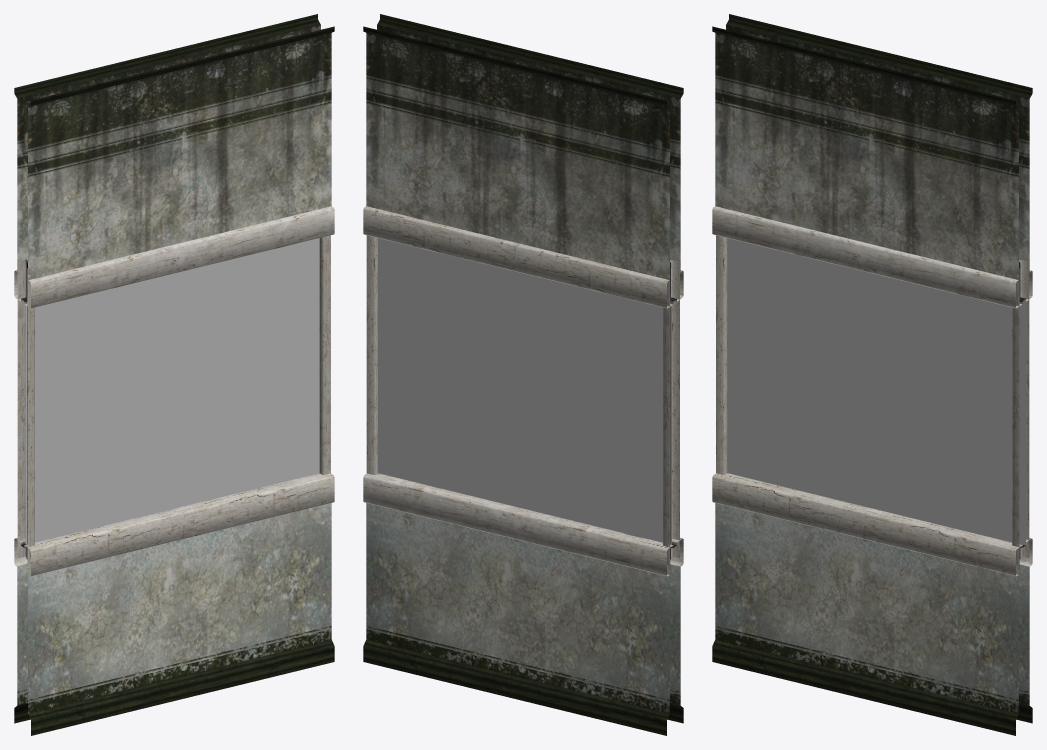
The model's file is waitingroom_reception_damaged_flat_short.dae.
3 views of the same model, side by side, from view 1: azimuth 30°, elevation 25°; view 2: azimuth 150°, elevation 25°; view 3: azimuth 330°, elevation 25° (orthographic).
Parts seen in each view (by area): view 1: polySurface172, polySurface182; view 2: polySurface172, polySurface182; view 3: polySurface172, polySurface182.
Boxes of the visible parts, <box> form: polySurface172: <box>14,14,334,735</box>; polySurface182: <box>25,238,319,544</box>; polySurface172: <box>363,14,683,735</box>; polySurface182: <box>378,238,671,544</box>; polySurface172: <box>712,14,1032,735</box>; polySurface182: <box>727,238,1025,547</box>.
Bounding box in the file's own units: 2 × 4 × 0.1933.
